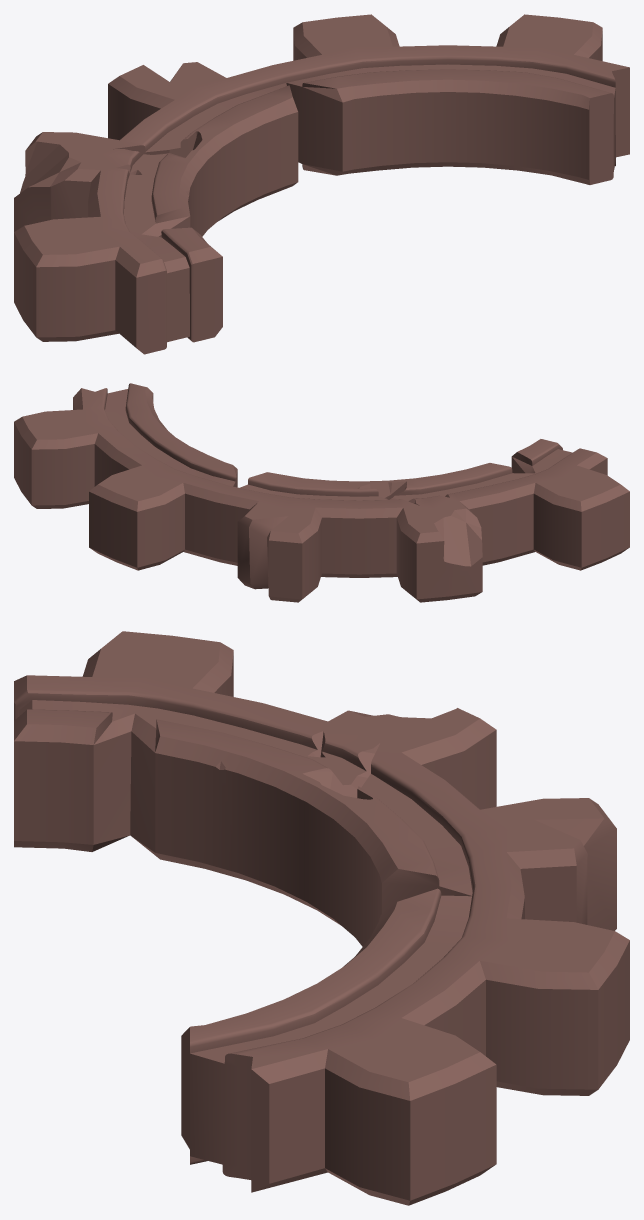
File: HalfCogWheel_Damaged_Extremely.fbx
3 renders of one model, top to bottom at view 1: azimuth 30°, elevation 25°; view 2: azimuth 150°, elevation 25°; view 3: azimuth 270°, elevation 25°, orthographic. The views are drawn at different scales.
Visible parts, largest first — view 1: HalfCogWheel_Damaged_Extremely; view 2: HalfCogWheel_Damaged_Extremely; view 3: HalfCogWheel_Damaged_Extremely.
Part boxes in pixels (x1,y1,x2,y2): HalfCogWheel_Damaged_Extremely: (14,14,629,354); HalfCogWheel_Damaged_Extremely: (14,383,629,602); HalfCogWheel_Damaged_Extremely: (14,631,629,1205).
Bounding box in the file's own units: 194 × 24.66 × 109.
